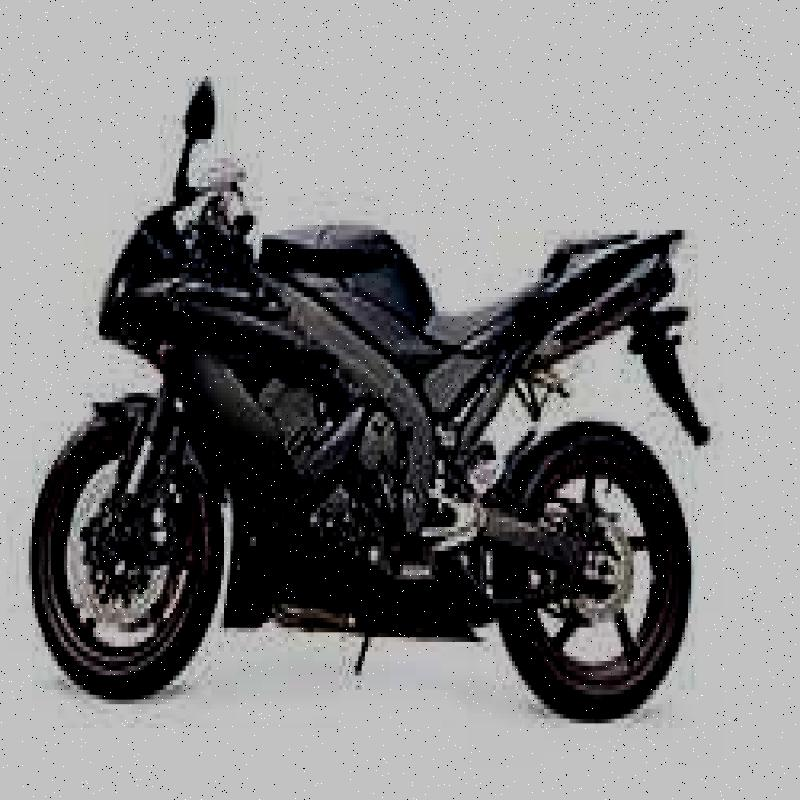bike: (41, 74, 732, 719)
